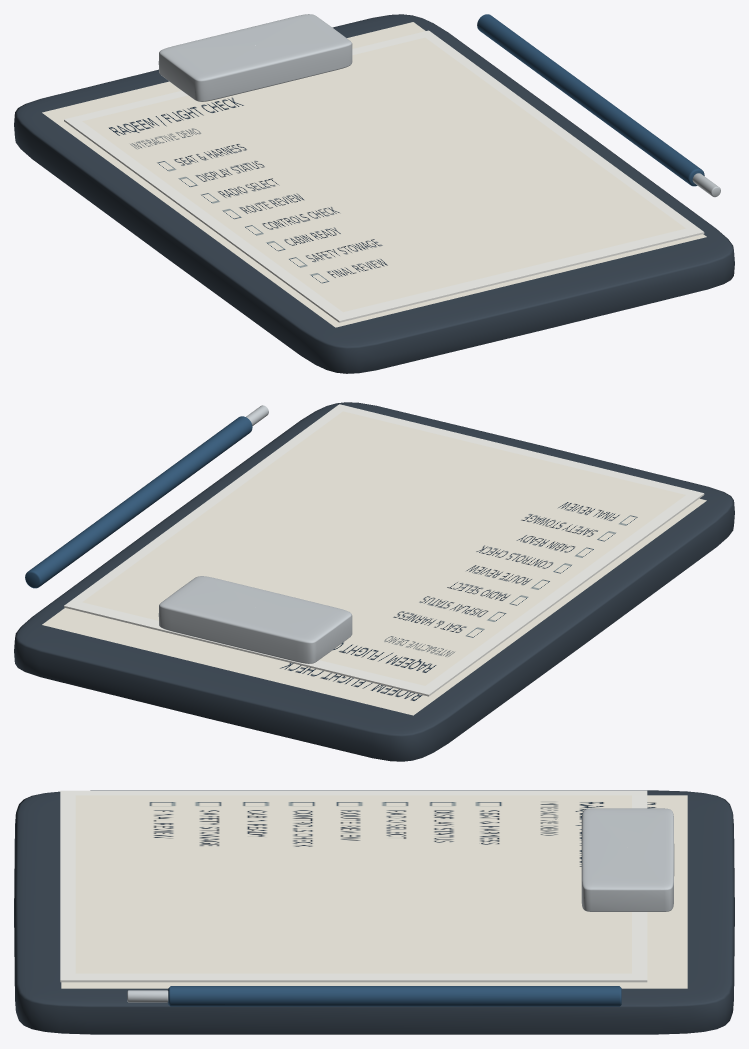
The model's file is flight_checklist.glb.
The picture shows the model from 3 angles, top to bottom: view 1: azimuth 30°, elevation 25°; view 2: azimuth 150°, elevation 25°; view 3: azimuth 270°, elevation 25°; orthographic projection. The views are drawn at different scales.
Parts seen in each view (by area): view 1: Second_Page_Print, Kneeboard, Second_Paper_Sheet, Clipboard_Metal_Clip, Checklist_Page, Pen_Body; view 2: Second_Page_Print, Kneeboard, Second_Paper_Sheet, Checklist_Page, Clipboard_Metal_Clip, Pen_Body; view 3: Second_Page_Print, Kneeboard, Second_Paper_Sheet, Clipboard_Metal_Clip, Pen_Body, Checklist_Page, Pen_Tip.
Part boxes in pixels (x1,y1,x2,y2): Second_Page_Print: (82,37,685,312); Kneeboard: (14,14,734,373); Second_Paper_Sheet: (64,30,704,322); Clipboard_Metal_Clip: (158,14,352,101); Checklist_Page: (42,22,706,327); Pen_Body: (477,14,704,186); Second_Page_Print: (82,411,685,685); Kneeboard: (14,402,734,761); Second_Paper_Sheet: (64,404,704,696); Checklist_Page: (42,498,706,715); Clipboard_Metal_Clip: (158,576,352,663); Pen_Body: (25,416,252,588); Second_Page_Print: (75,795,631,973); Kneeboard: (14,790,734,1034); Second_Paper_Sheet: (60,790,647,982); Clipboard_Metal_Clip: (581,808,674,911); Pen_Body: (168,986,621,1006); Checklist_Page: (61,795,687,988); Pen_Tip: (127,990,168,1002).
Size of the model in its own units: 0.265 by 0.044 by 0.35.
6 materials, 2 textured.
